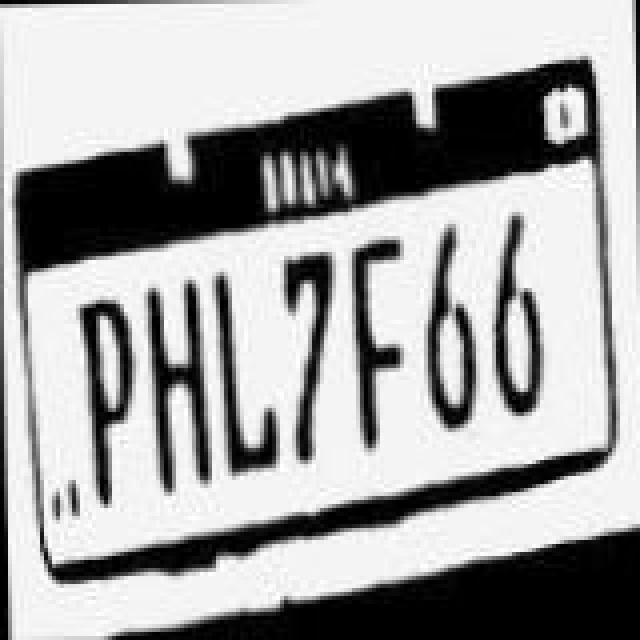6: (420, 224, 480, 440), (494, 204, 550, 420)
7: (280, 252, 340, 464)
F: (348, 242, 408, 458)
H: (148, 274, 212, 494)
L: (214, 268, 278, 476)
P: (76, 298, 140, 510)
